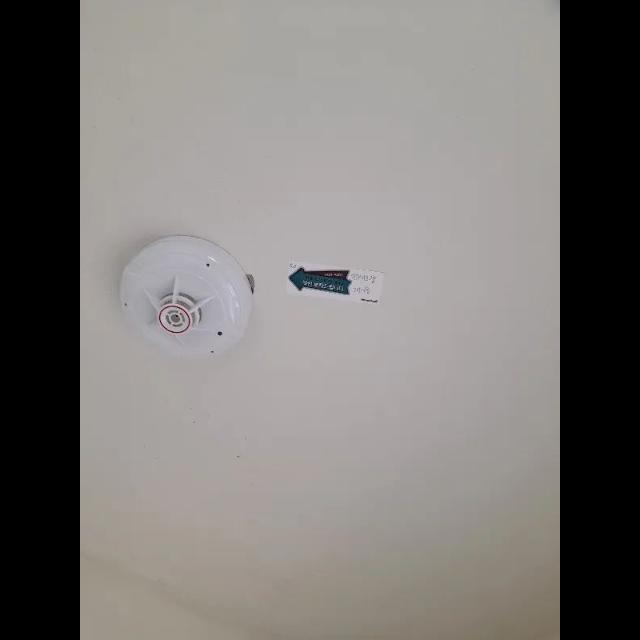Smoke-Detector: (120, 233, 252, 361)
